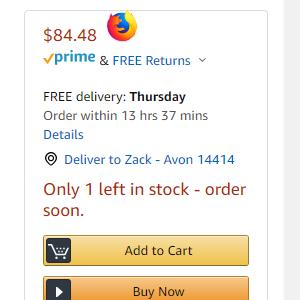firefox: (107, 9, 137, 42)
